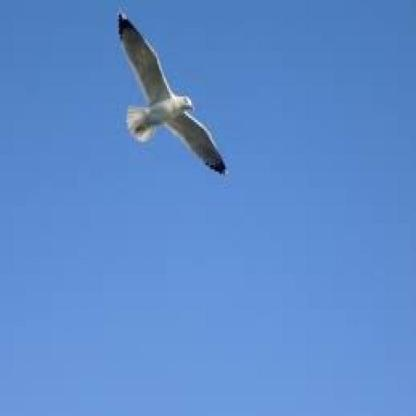bird: (79, 0, 245, 193)
